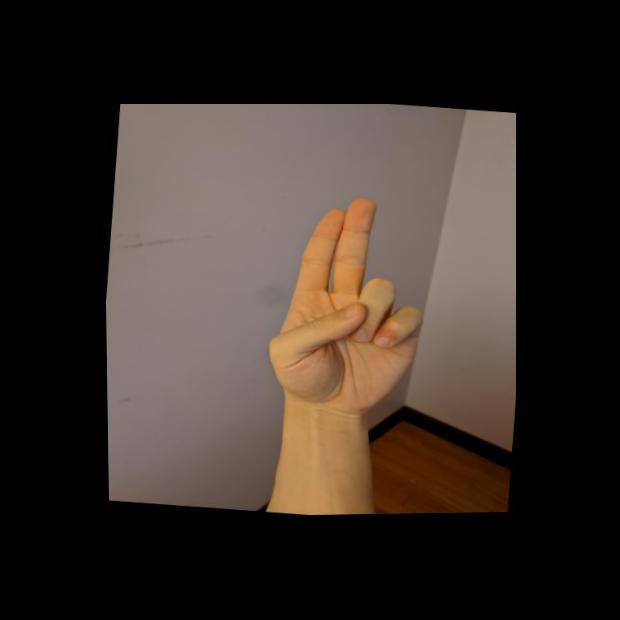T: (257, 188, 437, 423)
